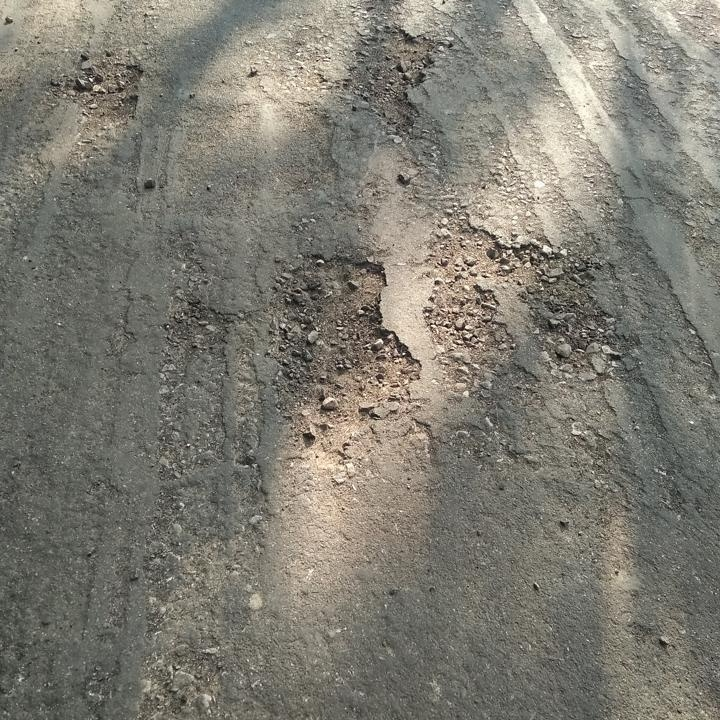pothole: (262, 247, 425, 466), (505, 237, 627, 374), (420, 219, 516, 382), (338, 26, 446, 140), (46, 58, 147, 126)
